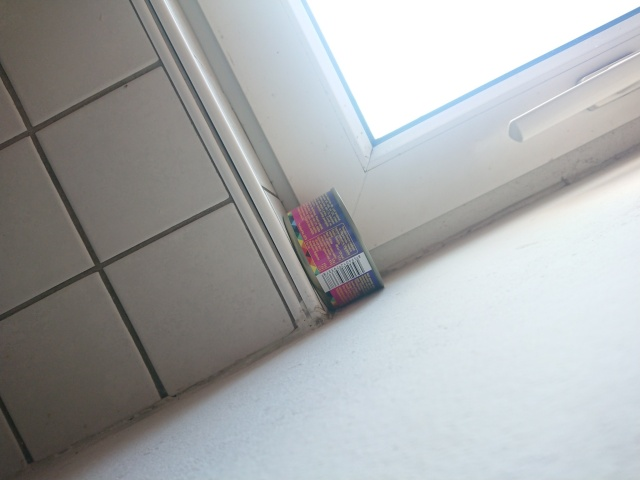Giana Tuna Salad Mexico 185g: (280, 185, 388, 317)
